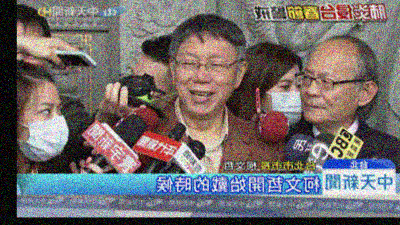with_mask: (18, 99, 69, 159), (261, 77, 304, 128)
without_mask: (173, 48, 235, 118), (301, 64, 361, 128)
